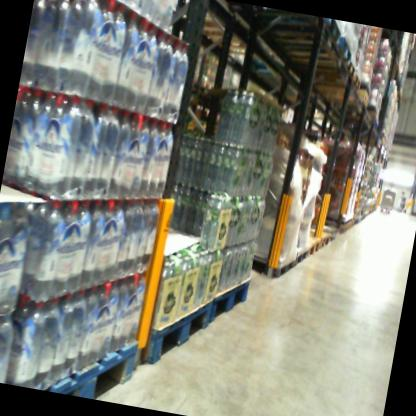pallet: (47, 324, 146, 403), (138, 288, 214, 384), (260, 21, 355, 74), (264, 42, 358, 89), (197, 269, 258, 341), (243, 6, 346, 47), (242, 242, 298, 282), (300, 80, 370, 108), (303, 62, 365, 93), (295, 225, 332, 261), (286, 231, 322, 265), (280, 241, 310, 273)
